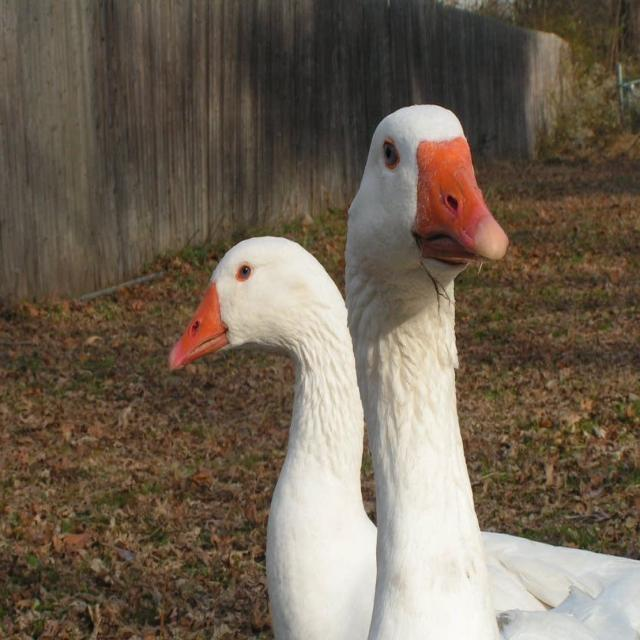Goose: (347, 105, 640, 640), (171, 234, 375, 640)
